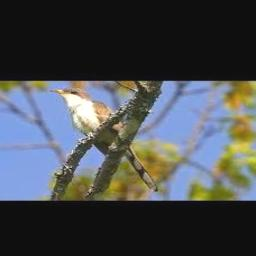Cuckoo: (48, 88, 157, 192)
